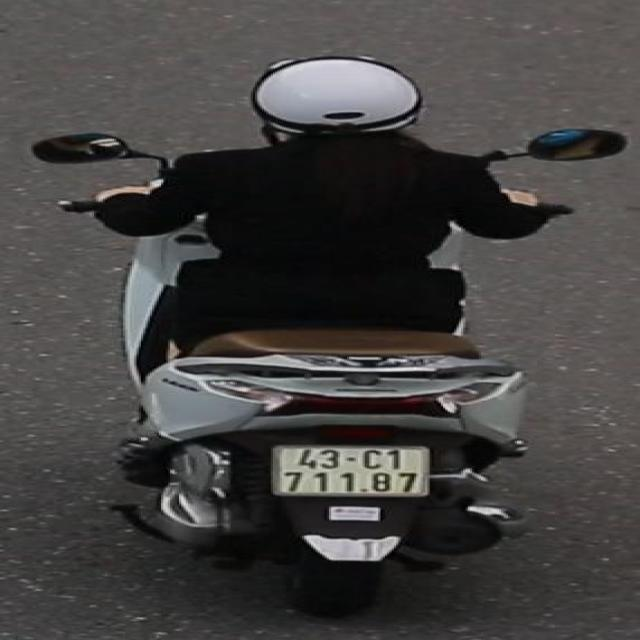LP: (263, 442, 440, 505)
helmet: (244, 50, 432, 153)
